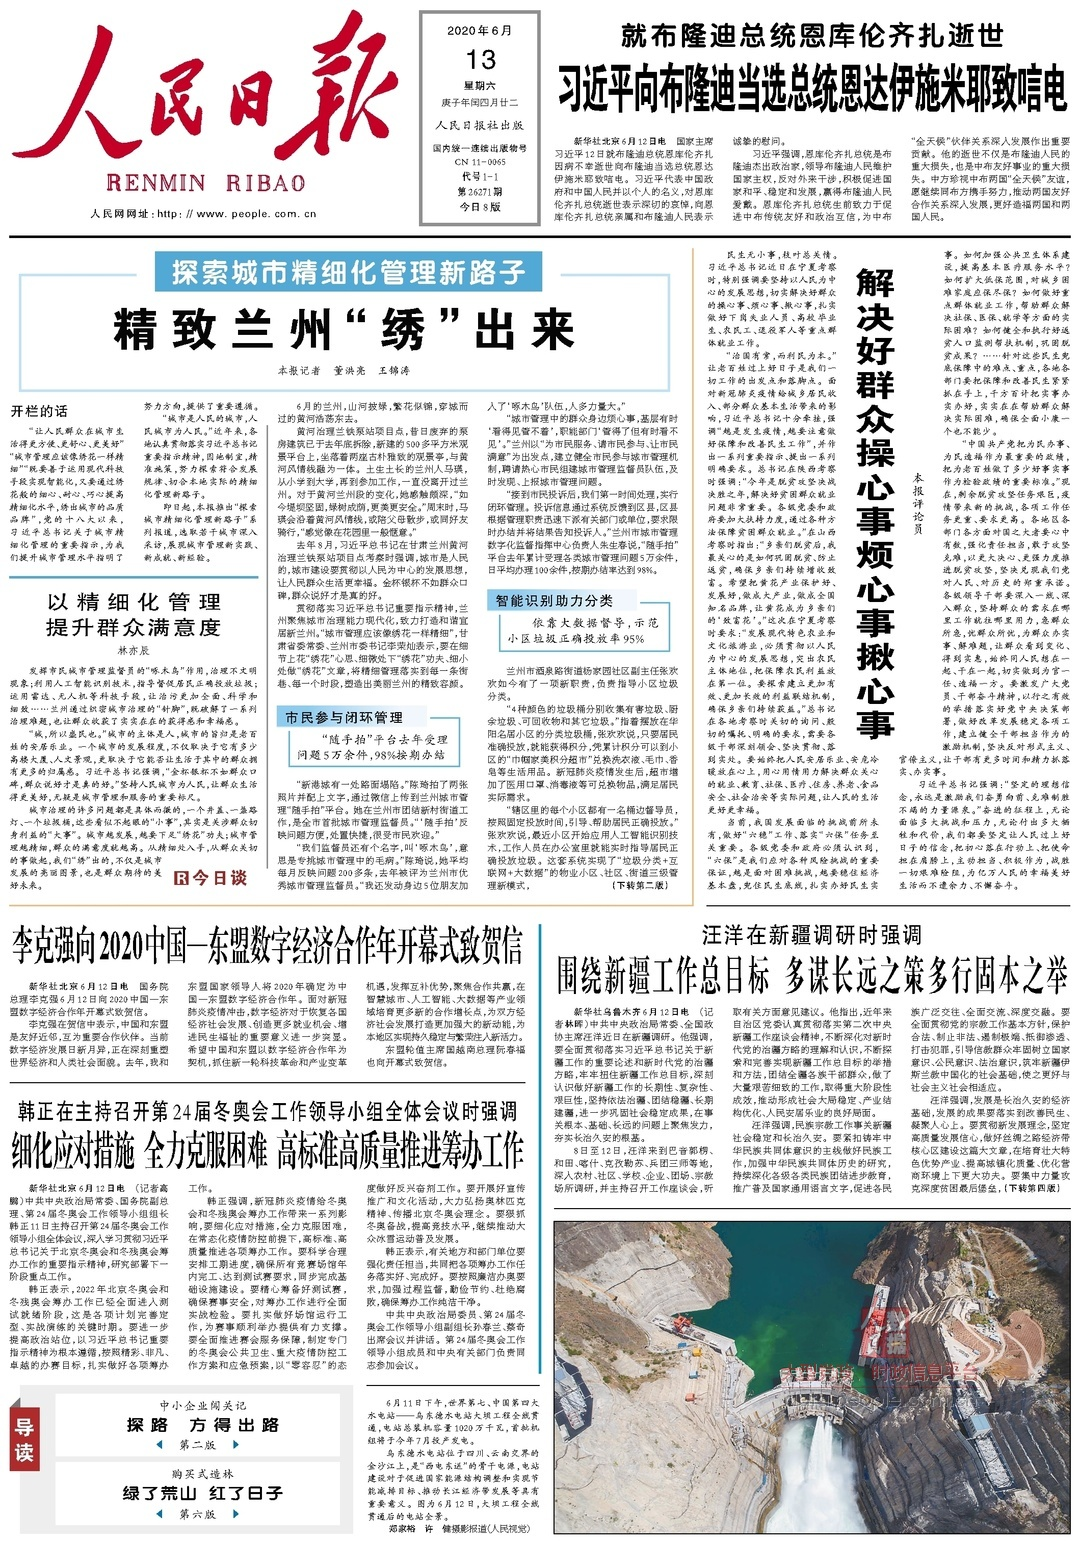pic: (548, 1215, 1076, 1539)
